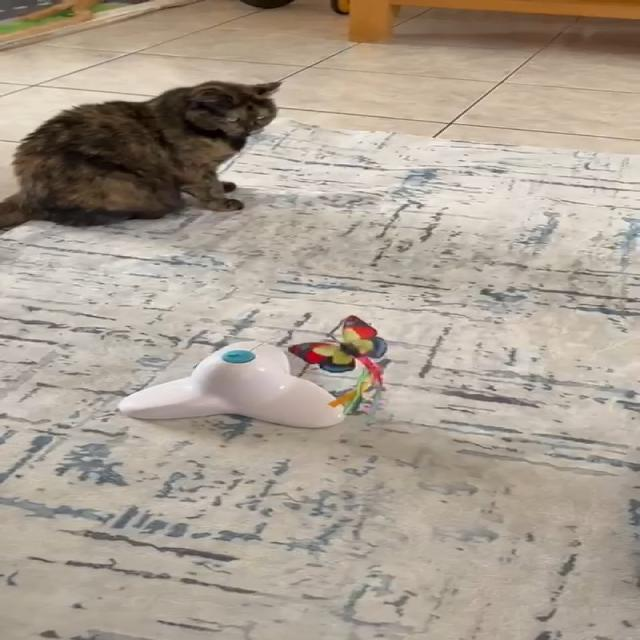authorized: (0, 78, 283, 228)
